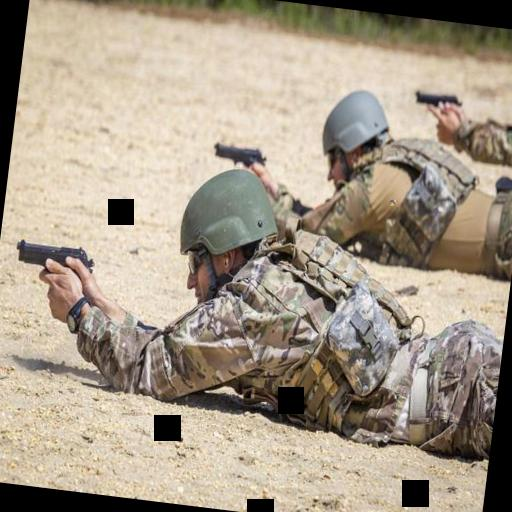Handgun: (10, 234, 98, 278), (209, 136, 268, 170), (412, 84, 464, 111)
